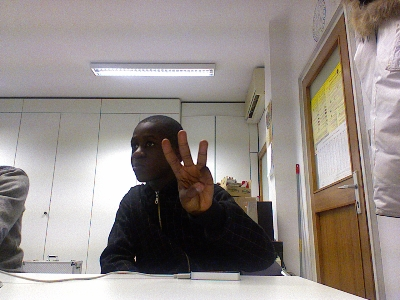三分: (160, 126, 216, 213)
